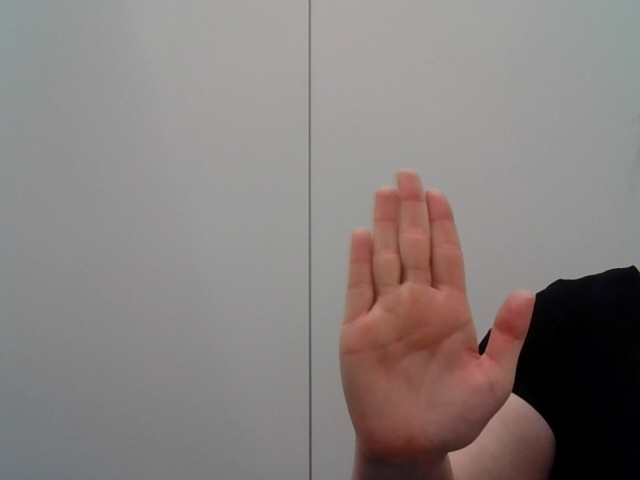nada: (319, 164, 553, 472)
